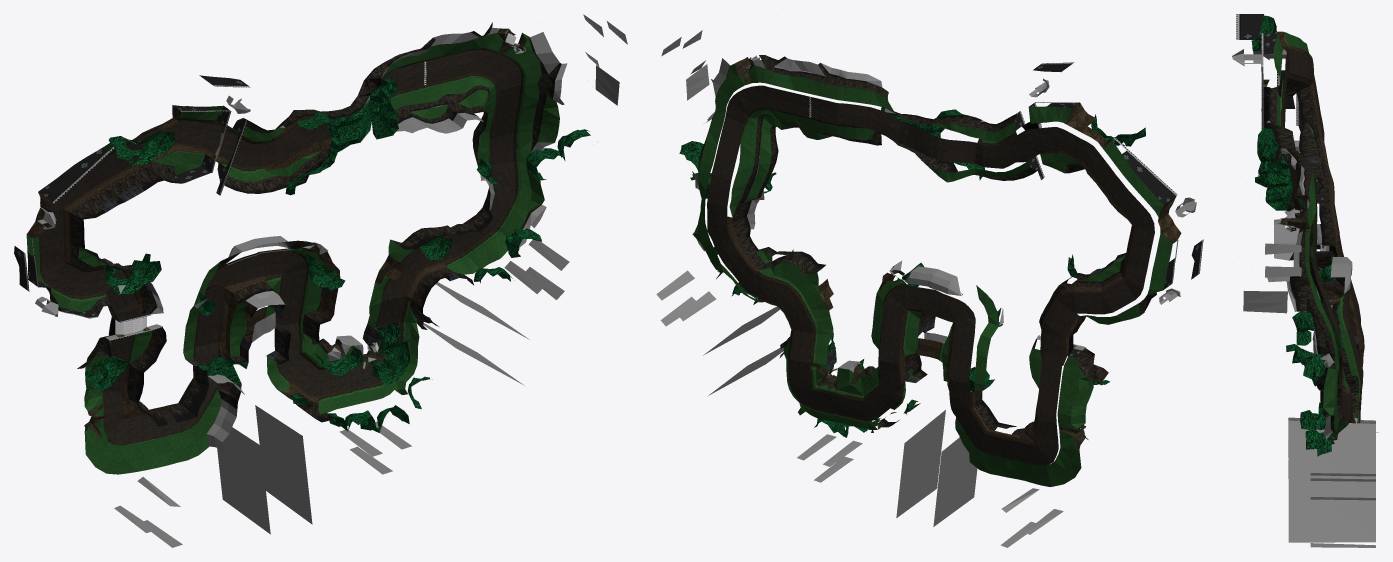
File: TEST.GDB.obj
The picture shows the model from 3 angles, left to right: view 1: azimuth 30°, elevation 25°; view 2: azimuth 150°, elevation 25°; view 3: azimuth 270°, elevation 25°; orthographic projection. The views are drawn at different scales.
Bounding box in the file's own units: 1983 × 1560 × 455.
22 materials, 21 textured.
